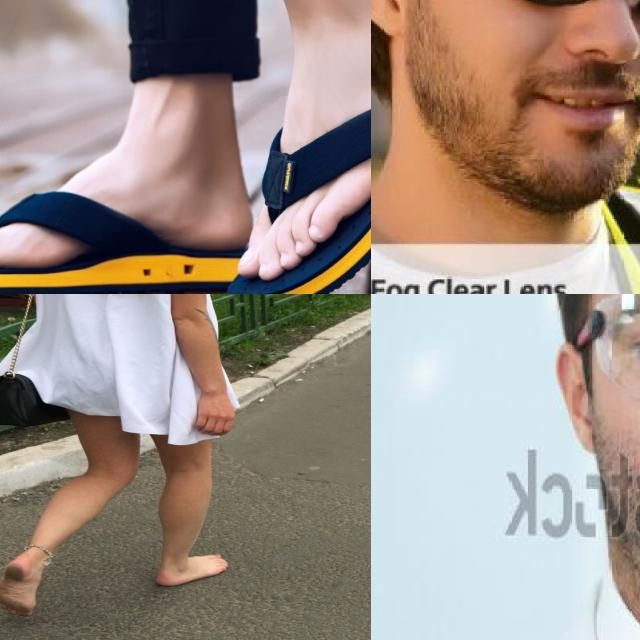Barefoots: (156, 554, 228, 586), (0, 559, 36, 616)
No_Ear-Protection: (543, 337, 612, 458)
Sandals: (228, 0, 371, 294), (0, 172, 250, 293)
face_nomask: (476, 0, 640, 164)
glasses: (573, 294, 640, 404)
person: (424, 294, 640, 640)
